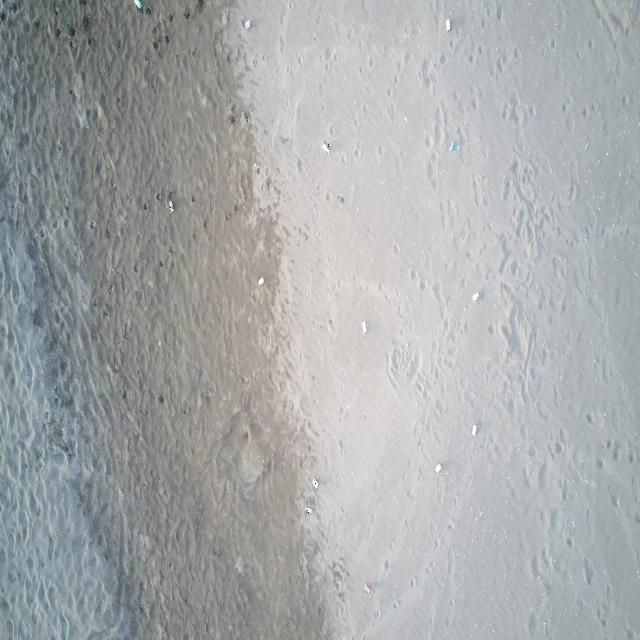Garbage: (360, 320, 367, 333), (444, 18, 451, 31), (322, 140, 329, 152), (472, 291, 480, 301), (243, 19, 251, 28), (134, 0, 140, 11), (448, 141, 455, 150), (312, 477, 318, 487), (363, 583, 369, 593), (256, 276, 263, 284), (471, 424, 476, 435), (168, 200, 172, 212), (303, 507, 312, 512), (435, 464, 440, 472)
